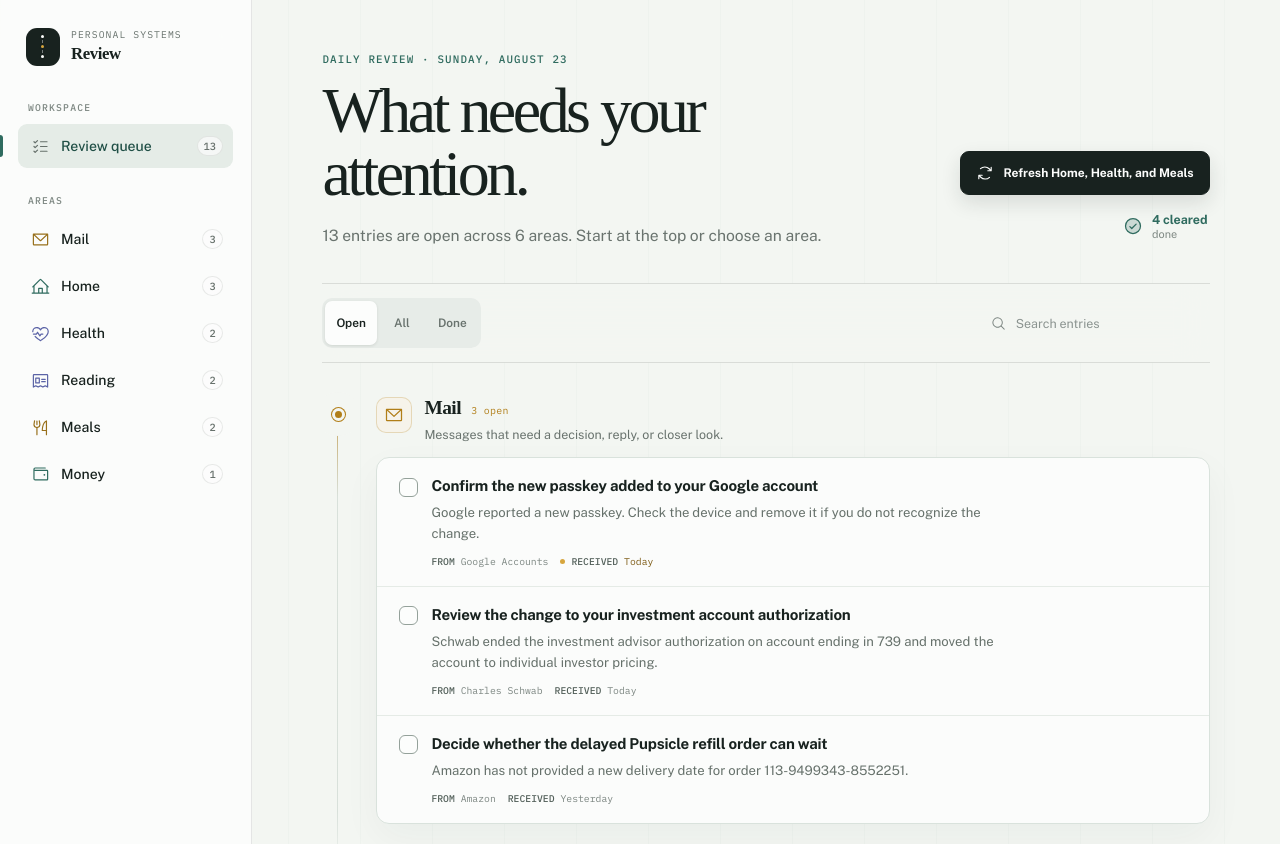
Scenario: ReviewApp › optimistically saves a Home checkbox and blocks a duplicate toggle while PUT is pending
Expected: the heading "Mail" is shown, [424,397,461,419]
Click the button "All".
click(402, 323)  # box [380,301,424,345]
(page scrolled)
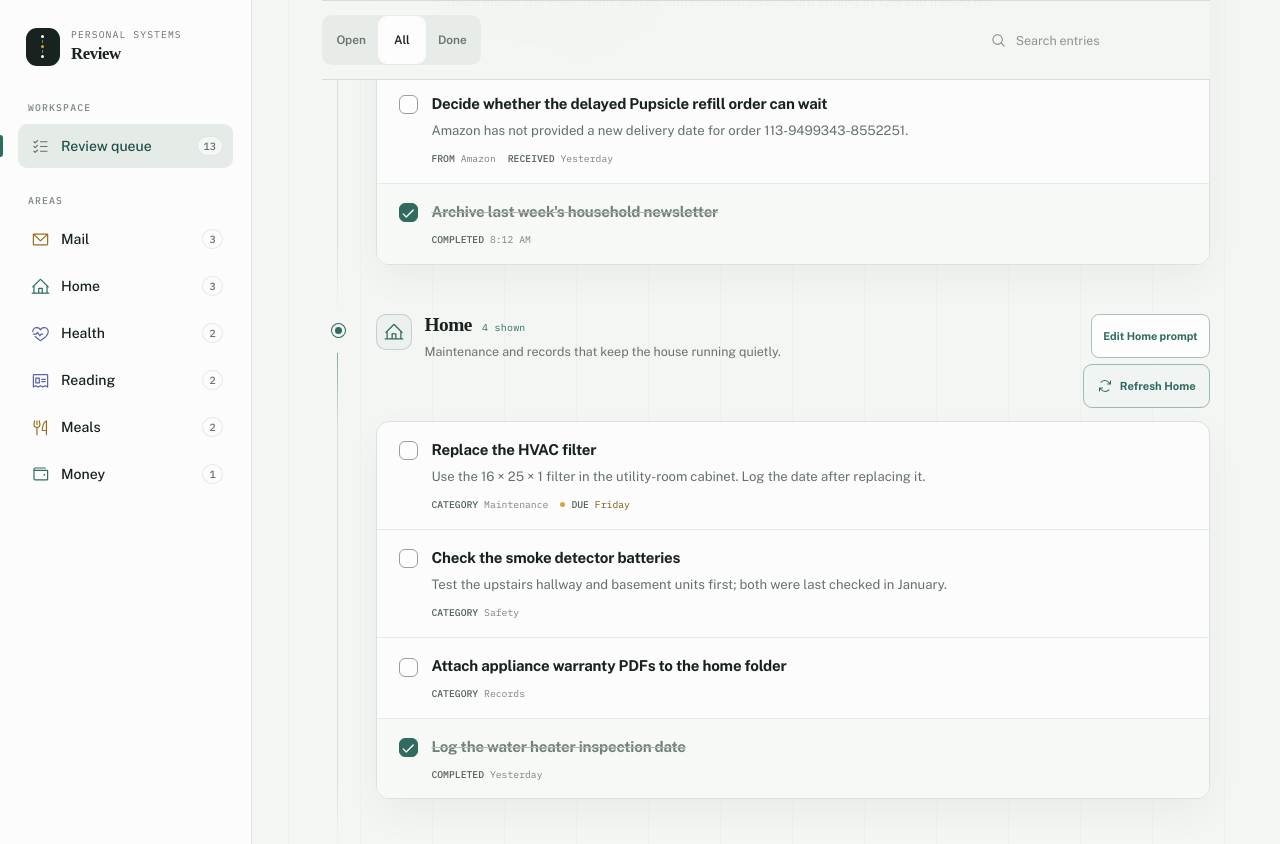
Click the button named "Mark Replace the HVAC filter".
click(408, 451)  # box [386,429,430,473]
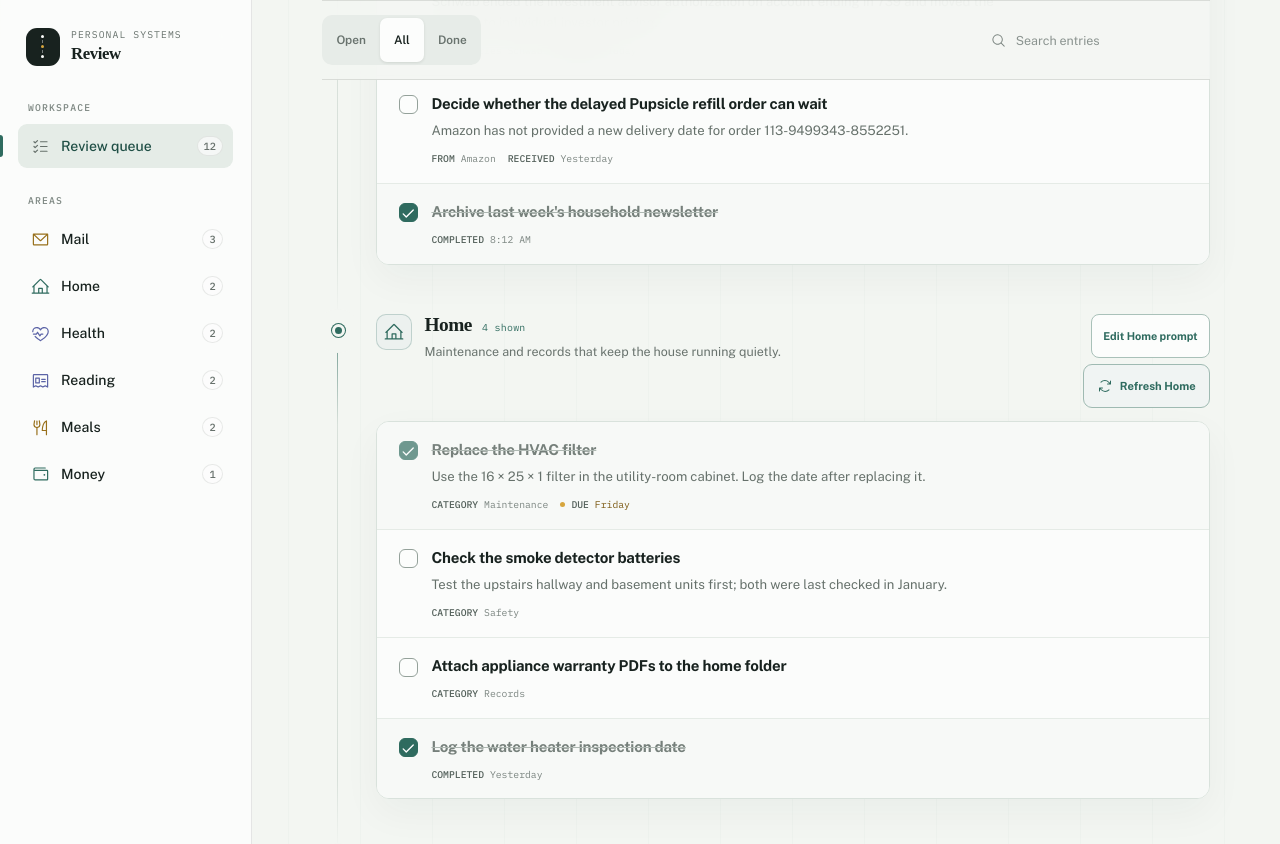
Expected: the button named "Restore Replace the HVAC filter" is disabled
Click the button named "Restore Replace the HVAC filter".
click(408, 451)  # box [386,429,430,473]
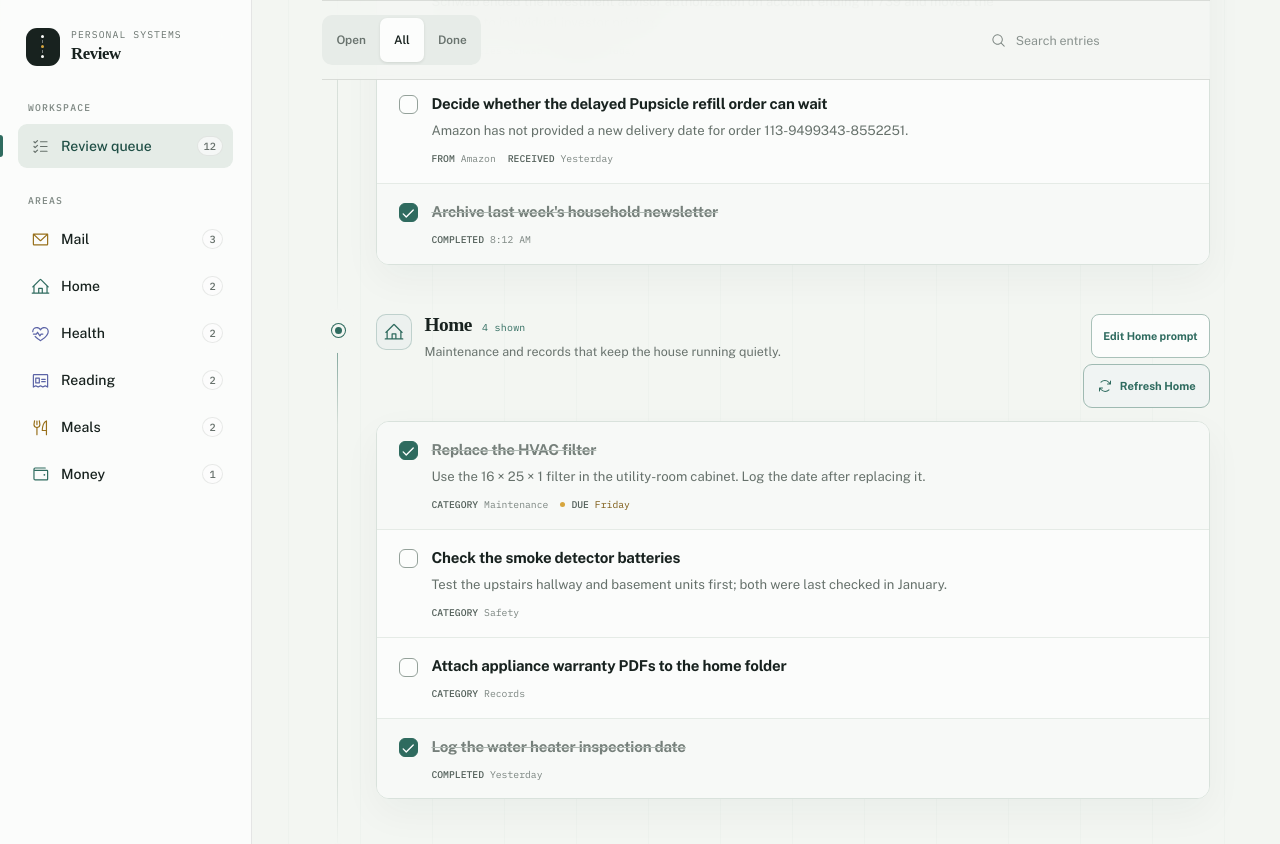
Expected: the button named "Restore Replace the HVAC filter" is enabled, [386,429,430,473]
